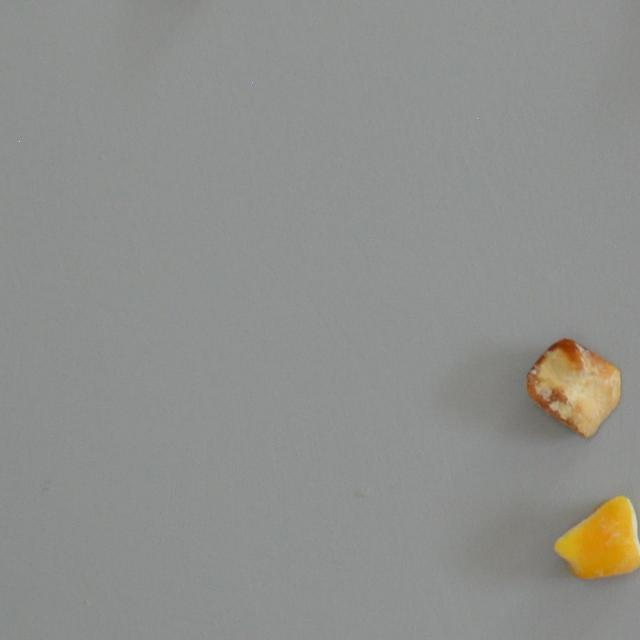dañado: (516, 326, 626, 442), (550, 490, 640, 584)
